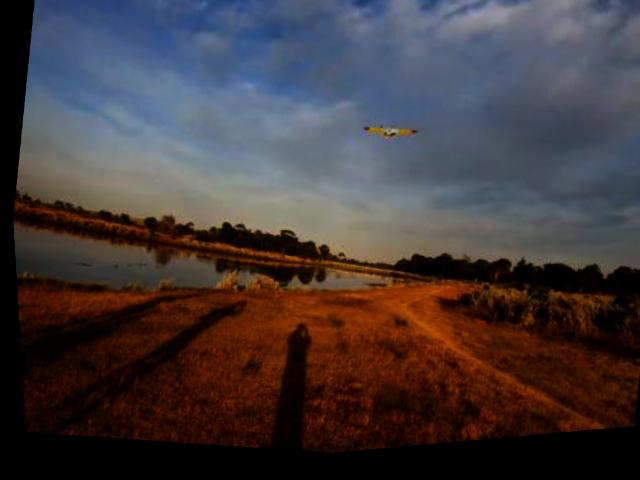uav: (352, 122, 416, 156)
